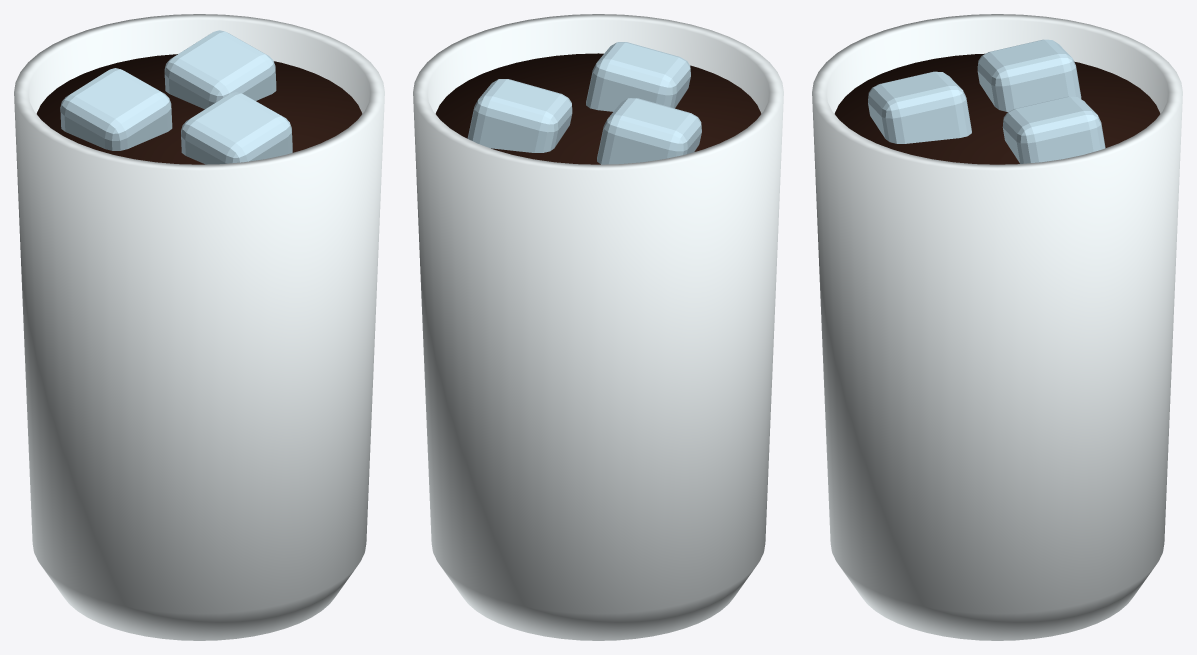
File: MenuIcedAmericano_001.fbx
3 views of the same model, side by side, from view 1: azimuth 30°, elevation 25°; view 2: azimuth 150°, elevation 25°; view 3: azimuth 270°, elevation 25° (orthographic).
Visible parts, largest first — view 1: Menu_IcedAmericano.002; view 2: Menu_IcedAmericano.002; view 3: Menu_IcedAmericano.002.
Boxes of the visible parts, x1,y1,x2,y2 form: Menu_IcedAmericano.002: [14, 14, 384, 640]; Menu_IcedAmericano.002: [413, 14, 783, 640]; Menu_IcedAmericano.002: [812, 14, 1182, 640].
Bounding box in the file's own units: 41.82 × 62.35 × 41.82.
